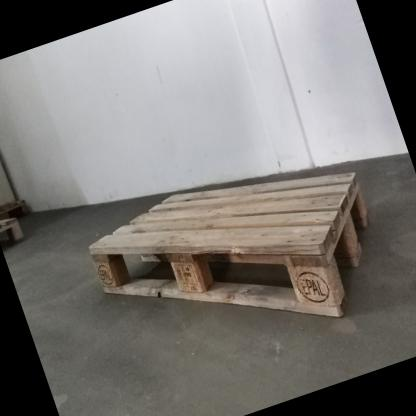BoxFace: (83, 164, 374, 322)
